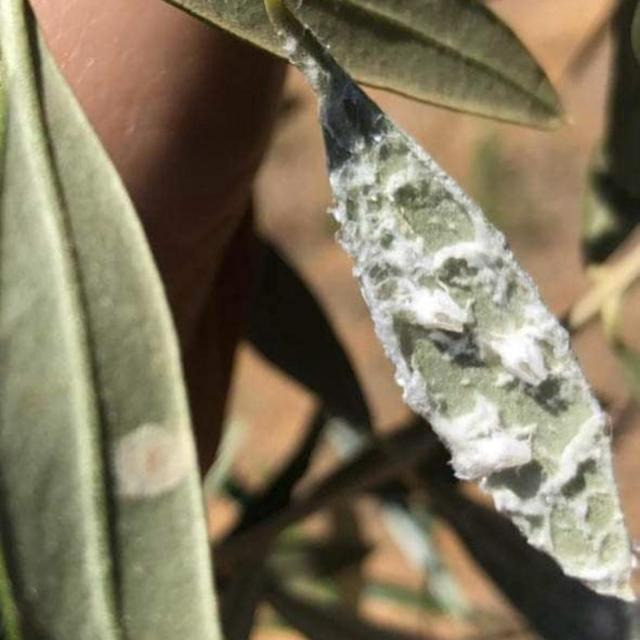Psyllid: (305, 58, 636, 602)
